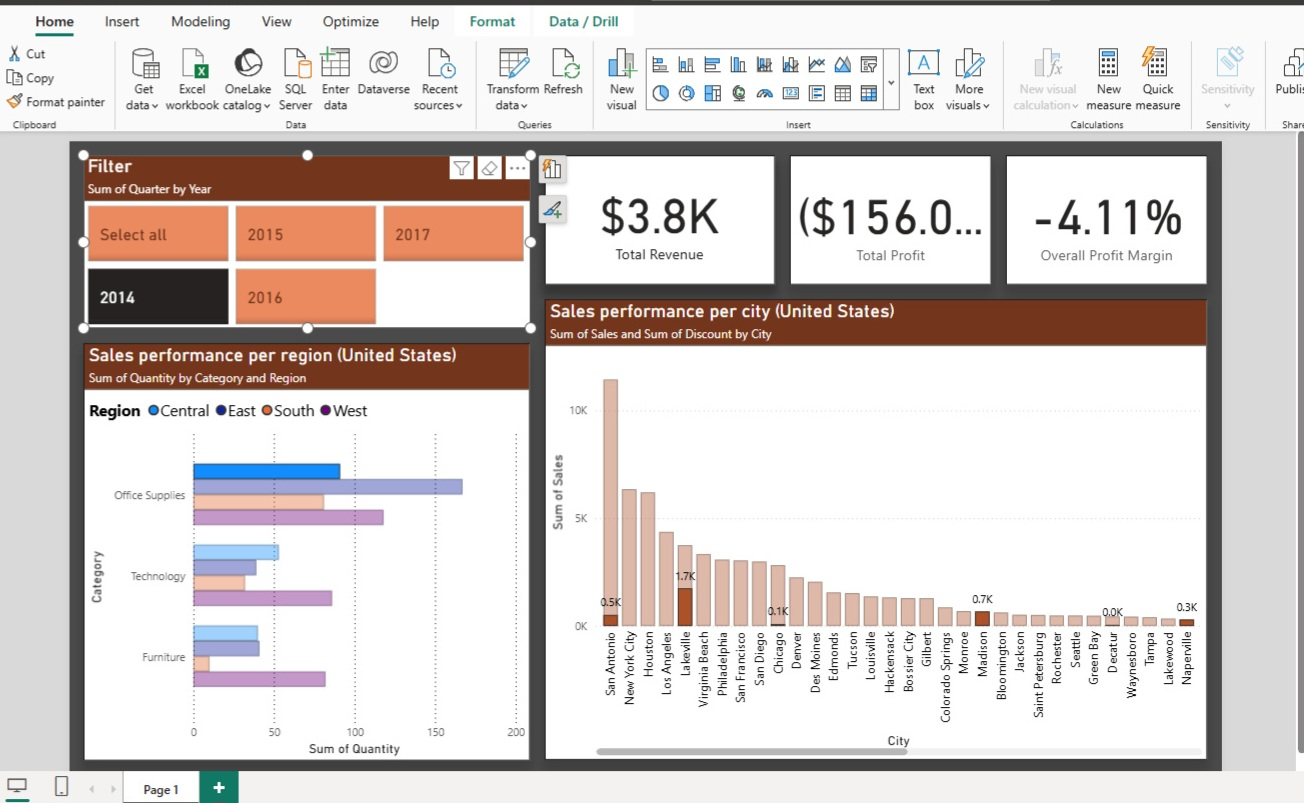

What the dashboard file says about the page in this screenshot:
{"tool":"powerbi","page":{"name":"Page 1","canvas":[1280,720],"ordinal":0},"visuals":[{"type":"card","fields":{"Values":["Cleaned Superstore.Total Revenue"]},"box":[528,16,256,144],"z":0},{"type":"card","fields":{"Values":["Cleaned Superstore.Total Profit"]},"box":[800,16,224,144],"z":1000},{"type":"card","fields":{"Values":["Cleaned Superstore.Overall Profit Margin"]},"box":[1040,16,224,144],"z":2000},{"type":"columnChart","title":"Sales performance per city (United States)","fields":{"Category":["Cleaned Superstore.City"],"Y":["Sum(Cleaned Superstore.Sales)"]},"box":[528,176,736,512],"z":3000},{"type":"advancedSlicerVisual","title":"Filter","fields":{"Values":["Year.Year"]},"box":[16,16,496,192],"z":4000},{"type":"clusteredBarChart","title":"Sales performance per region (United States)","fields":{"Series":["Cleaned Superstore.Region"],"Category":["Cleaned Superstore.Category"],"Y":["Sum(Cleaned Superstore.Quantity)"]},"box":[16,224,496,464],"z":5000}]}

Visuals, with their boxes on the page's 1280x720 design canvas (x1, y1, x2, y2). These are canvas units, not pixel positions in the 1304x803 screenshot, which may show the page scaled, cropped or inside an application window:
card - Cleaned Superstore.Total Revenue: select_region(528, 16, 784, 160)
card - Cleaned Superstore.Total Profit: select_region(800, 16, 1024, 160)
card - Cleaned Superstore.Overall Profit Margin: select_region(1040, 16, 1264, 160)
"Sales performance per city (United States)" columnChart: select_region(528, 176, 1264, 688)
"Filter" advancedSlicerVisual: select_region(16, 16, 512, 208)
"Sales performance per region (United States)" clusteredBarChart: select_region(16, 224, 512, 688)
